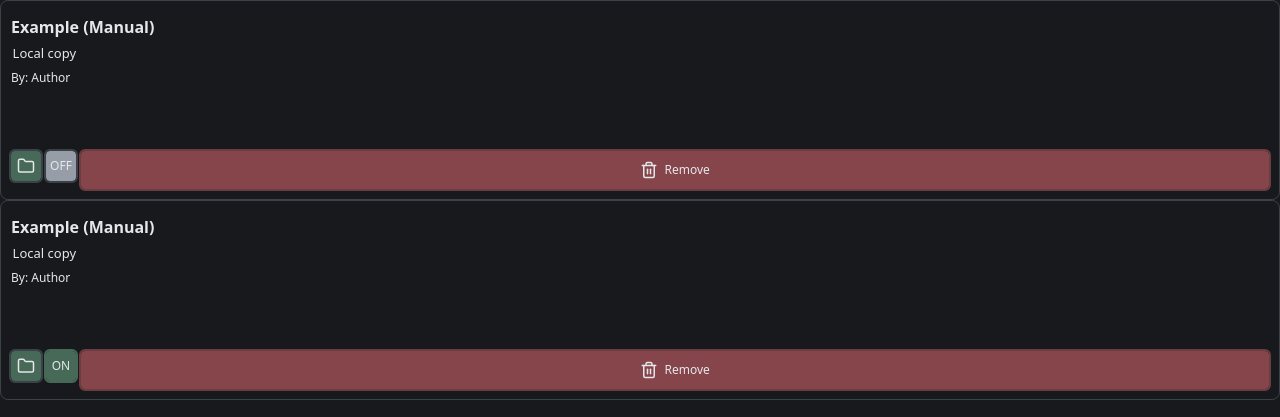
Test: installed mod cards › uses full-path state and toggles same-name copies independently
This screenshot has width=1280, height=417.
expect the button with aria-label "Disable Mod" reads "ON": met, box [46, 351, 76, 381]
Click the button with aria-label "Enable Mod": {"x": 61, "y": 166} [46, 151, 76, 181]
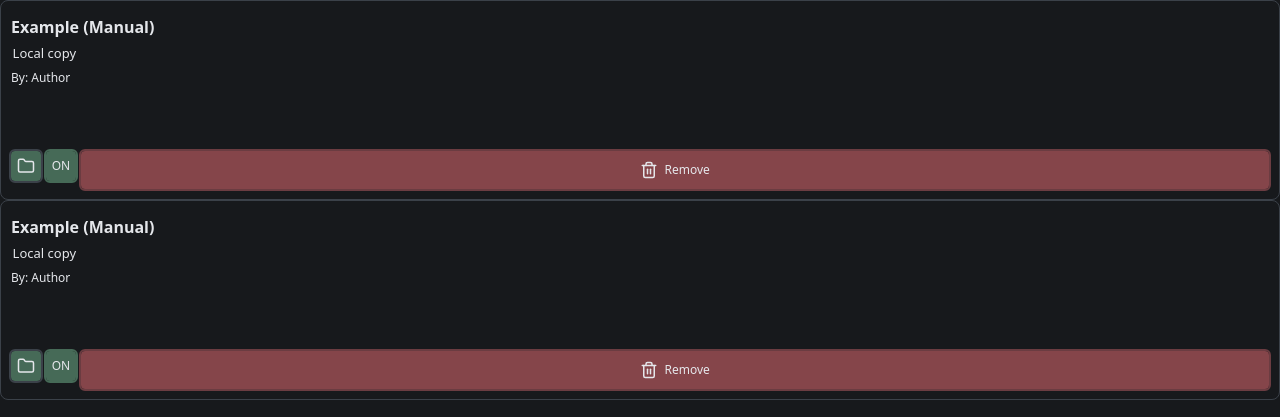
Click the button with aria-label "Disable Mod": {"x": 61, "y": 366} [46, 351, 76, 381]
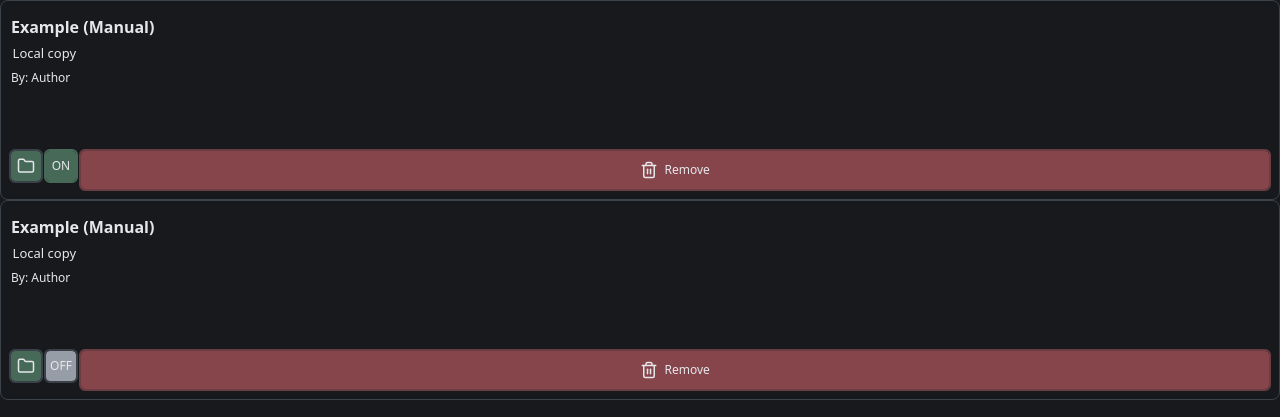
expect the button with aria-label "Disable Mod" reads "ON": met, box [46, 151, 76, 181]
expect the button with aria-label "Enable Mod" reads "OFF": met, box [46, 351, 76, 381]
